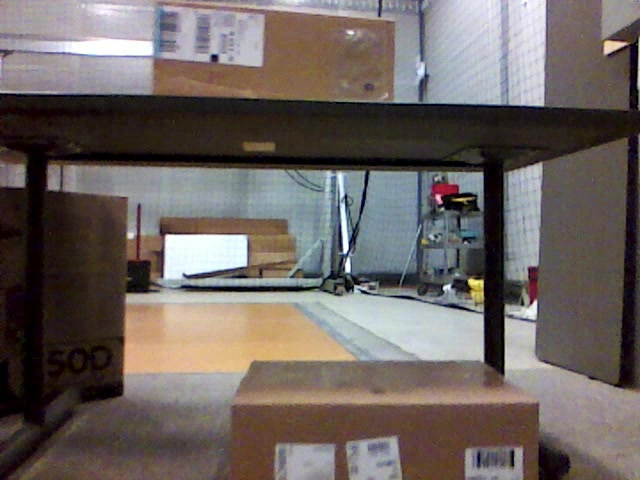box: (233, 361, 538, 480), (153, 1, 396, 103)
